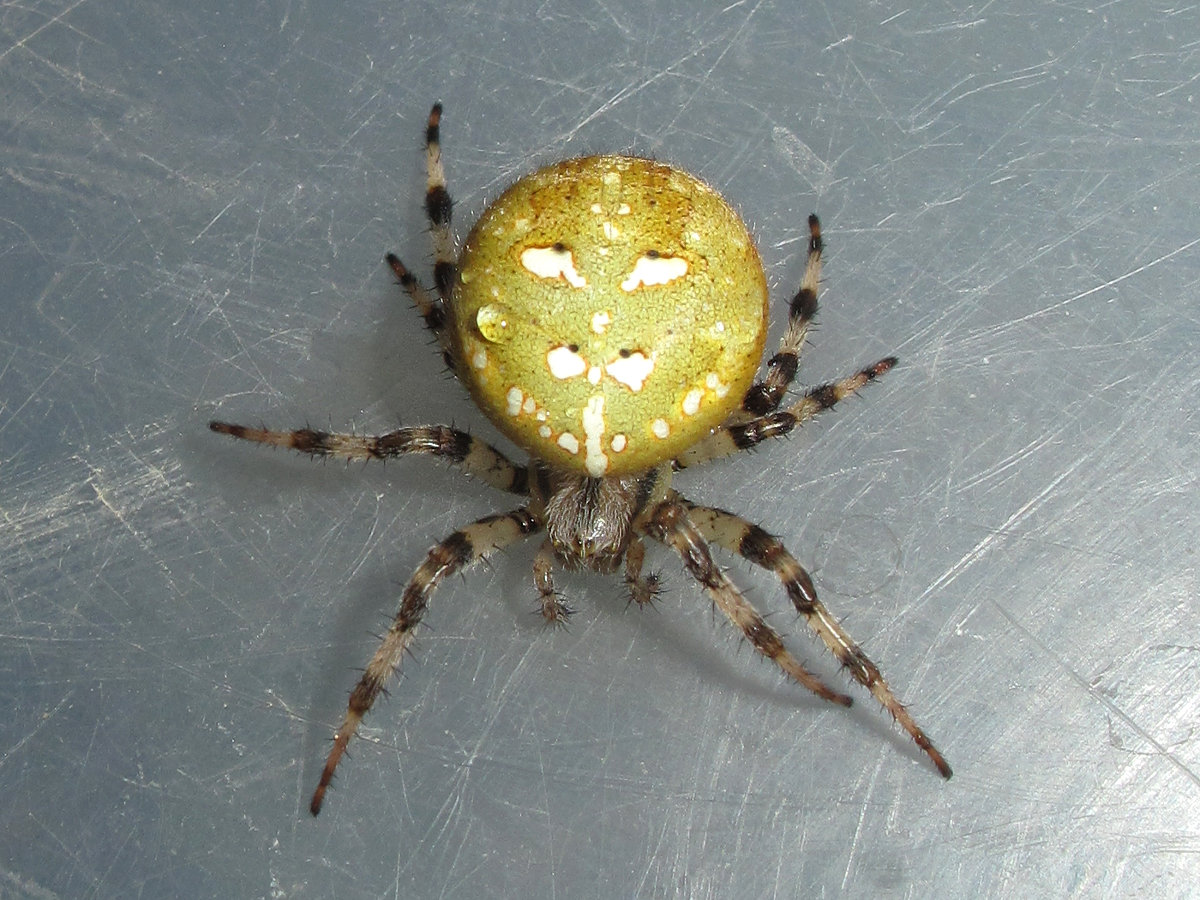spider: (179, 54, 1008, 850)
